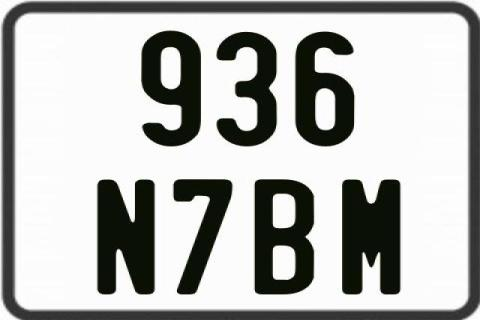0: (172, 178, 237, 294), (215, 31, 281, 145), (140, 30, 202, 148), (296, 29, 356, 148)
B: (255, 180, 316, 296)
M: (341, 180, 399, 296)
N: (94, 177, 156, 293)
